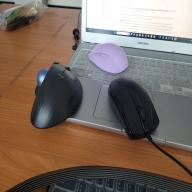mouse: (30, 60, 84, 130), (107, 76, 161, 140), (87, 40, 130, 75)
